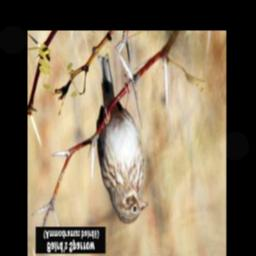Sparrow: (92, 51, 149, 228)
